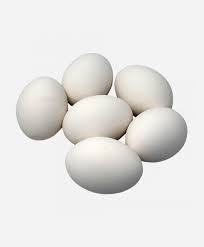eggs: (112, 54, 173, 133), (73, 128, 138, 192), (10, 72, 64, 145), (54, 97, 134, 143), (61, 44, 120, 93)
